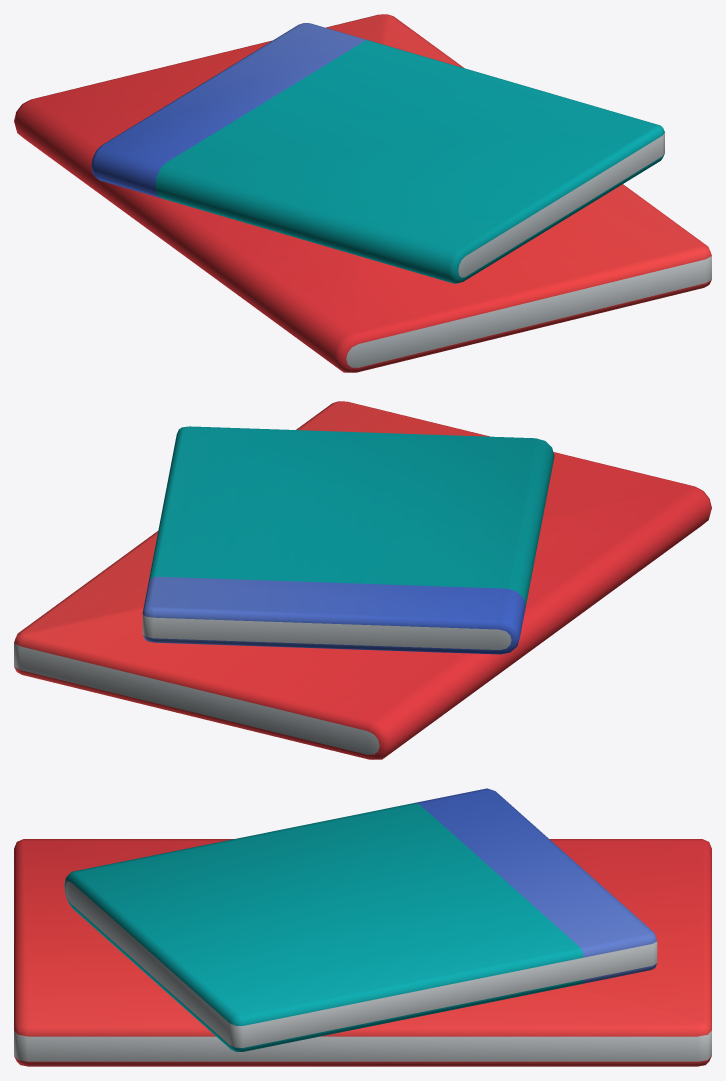
Rendered from Magazine_01.glb.
3 renders of one model, top to bottom at view 1: azimuth 30°, elevation 25°; view 2: azimuth 150°, elevation 25°; view 3: azimuth 270°, elevation 25°, orthographic. The views are drawn at different scales.
Parts seen in each view (by area): view 1: Magazine_01; view 2: Magazine_01; view 3: Magazine_01.
Part boxes in pixels (x1=…): Magazine_01: x1=14, y1=14, x2=711, y2=372; Magazine_01: x1=14, y1=401, x2=711, y2=759; Magazine_01: x1=14, y1=788, x2=711, y2=1066.
Bounding box in the file's own units: 0.2406 × 0.0373 × 0.3.
Materials: 1 (1 with a texture image).
